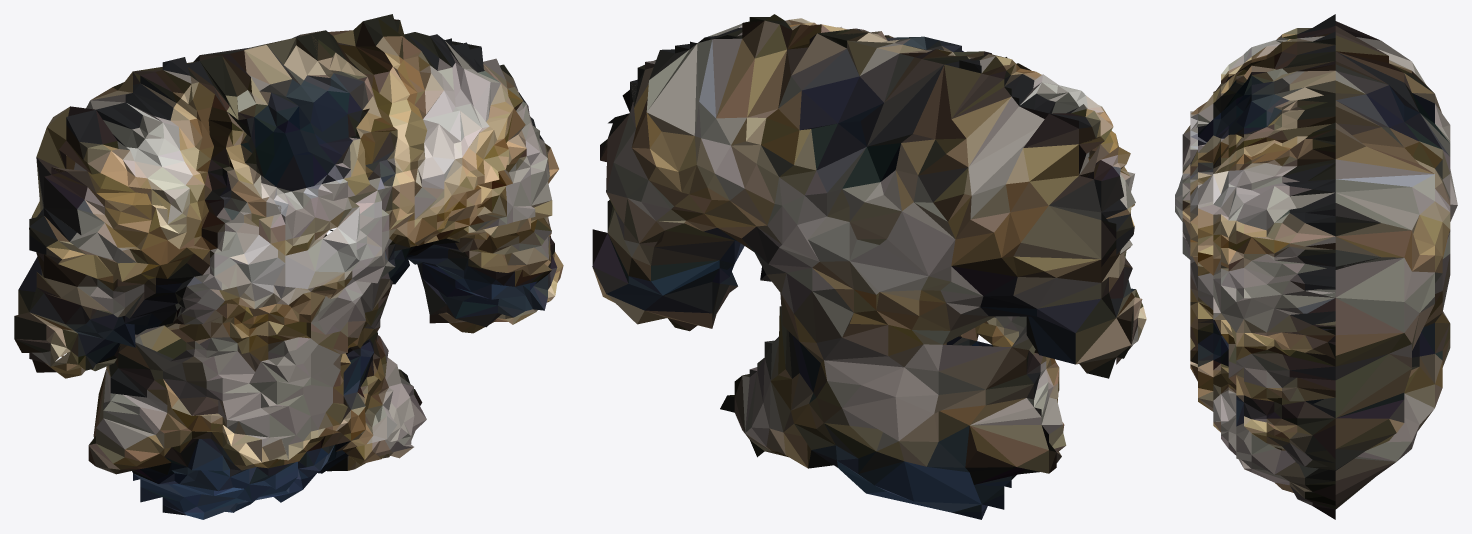
File: B07_6_valkyrie_platebody.obj
3 renders of one model, left to right at view 1: azimuth 30°, elevation 25°; view 2: azimuth 150°, elevation 25°; view 3: azimuth 270°, elevation 25°, orthographic. The views are drawn at different scales.
Parts seen in each view (by area): view 1: B07_6_valkyrie_platebody; view 2: B07_6_valkyrie_platebody; view 3: B07_6_valkyrie_platebody.
Part boxes in pixels (x1=…): B07_6_valkyrie_platebody: x1=14, y1=14, x2=563, y2=519; B07_6_valkyrie_platebody: x1=592, y1=14, x2=1146, y2=519; B07_6_valkyrie_platebody: x1=1175, y1=14, x2=1457, y2=519.
Bounding box in the file's own units: 72 × 58 × 37.
